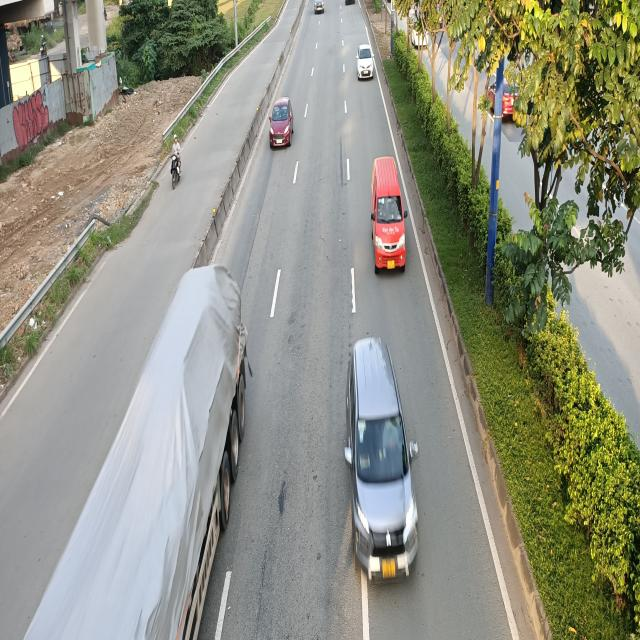car: (345, 338, 423, 579), (270, 100, 296, 151), (355, 45, 374, 80)
container: (6, 263, 250, 639)
van: (368, 158, 407, 274)
